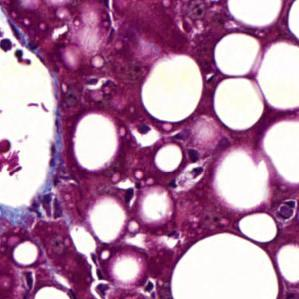steatosis: (133, 57, 208, 127), (215, 77, 265, 134), (74, 112, 119, 175), (213, 32, 264, 79)
